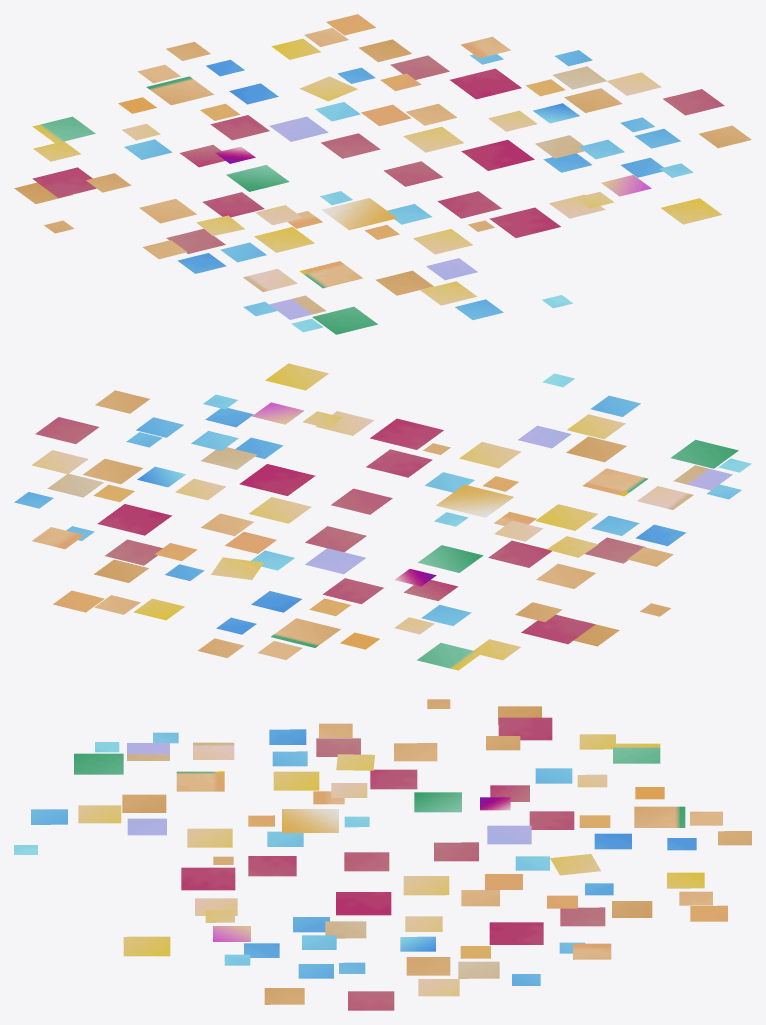
File: leaves.fbx
The picture shows the model from 3 angles, top to bottom: view 1: azimuth 30°, elevation 25°; view 2: azimuth 150°, elevation 25°; view 3: azimuth 270°, elevation 25°; orthographic projection. The views are drawn at different scales.
Parts seen in each view (by area): view 1: leafs; view 2: leafs; view 3: leafs.
Boxes of the visible parts, box(x1,y1,x2,y2) form: leafs: box(14, 14, 751, 334); leafs: box(14, 363, 751, 670); leafs: box(14, 699, 751, 1010).
Size of the model in its own units: 1386 by 16.29 by 1377.
